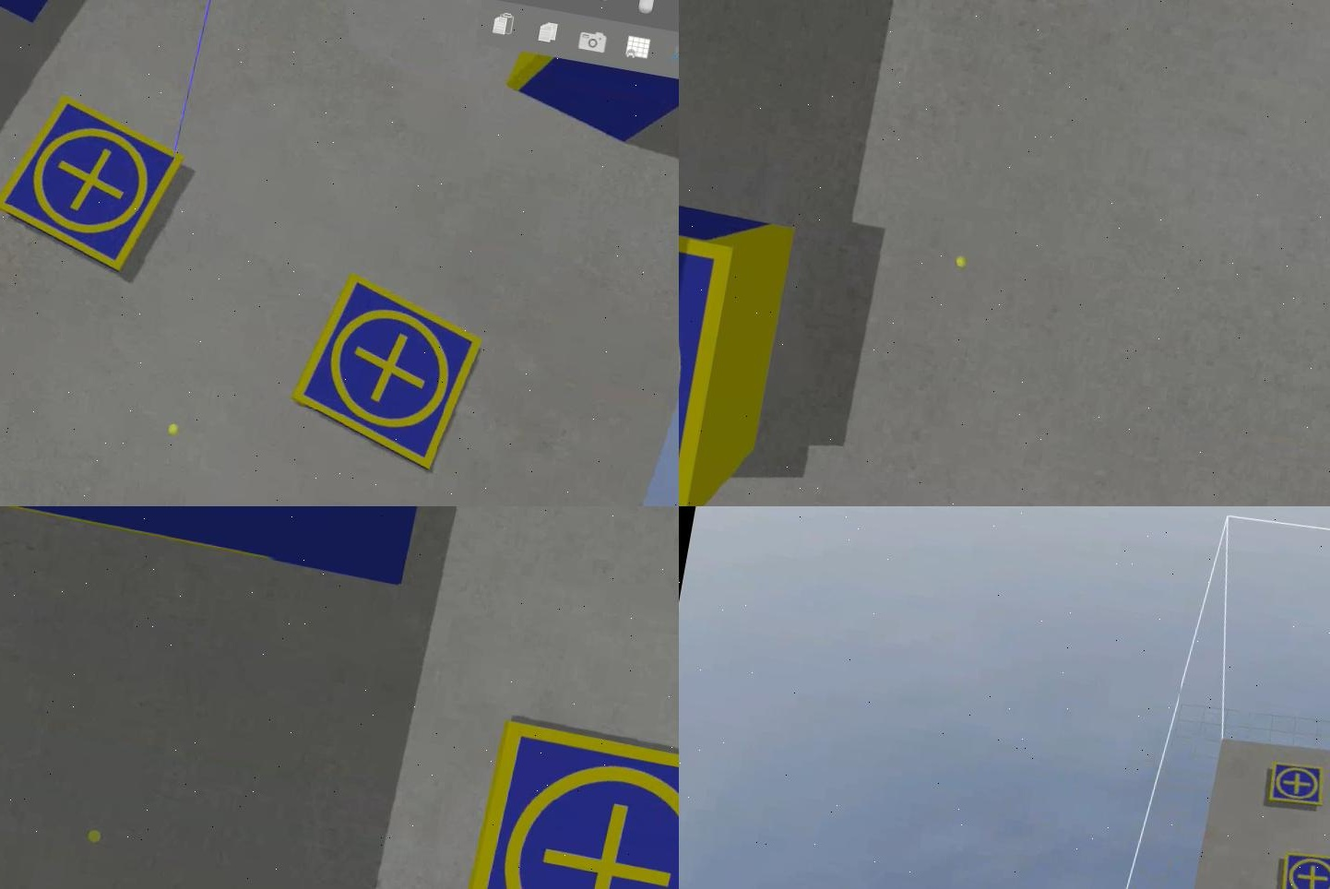large_base: (0, 506, 437, 586)
small_base: (281, 267, 490, 476), (453, 710, 678, 889), (0, 90, 192, 280), (1263, 757, 1328, 810), (1276, 849, 1328, 889)
